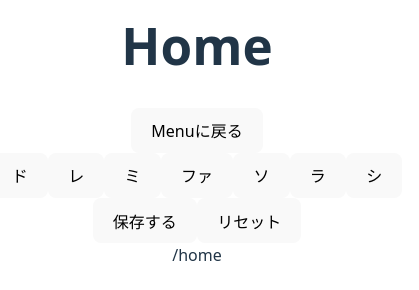
Scenario: シのボタンを押すと、楽譜にシが表示される
Click the button "シ".
click(374, 176)  # box x1=346 y1=153 x2=402 y2=198
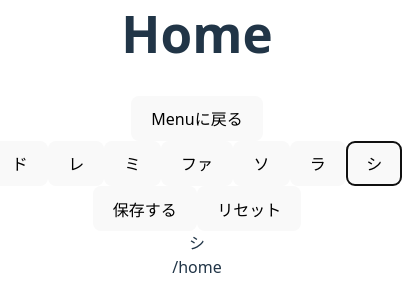
Now the element named "gakufu-board" reads "シ", box x1=189 y1=232 x2=205 y2=254
